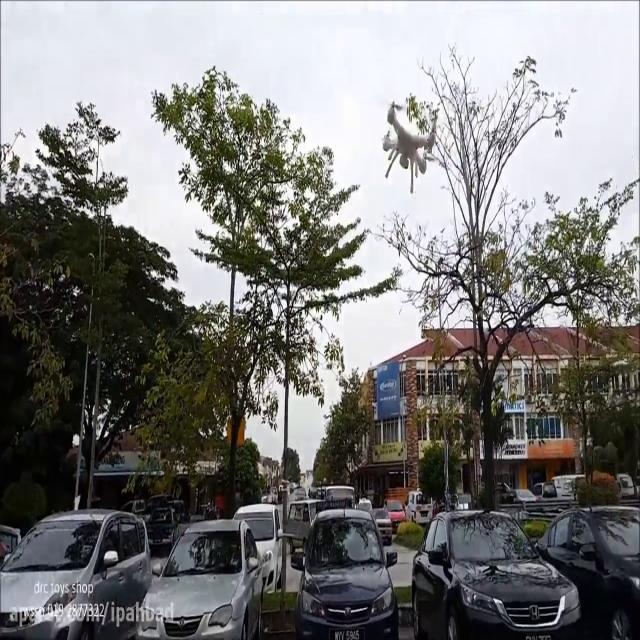drone: (376, 101, 438, 191)
